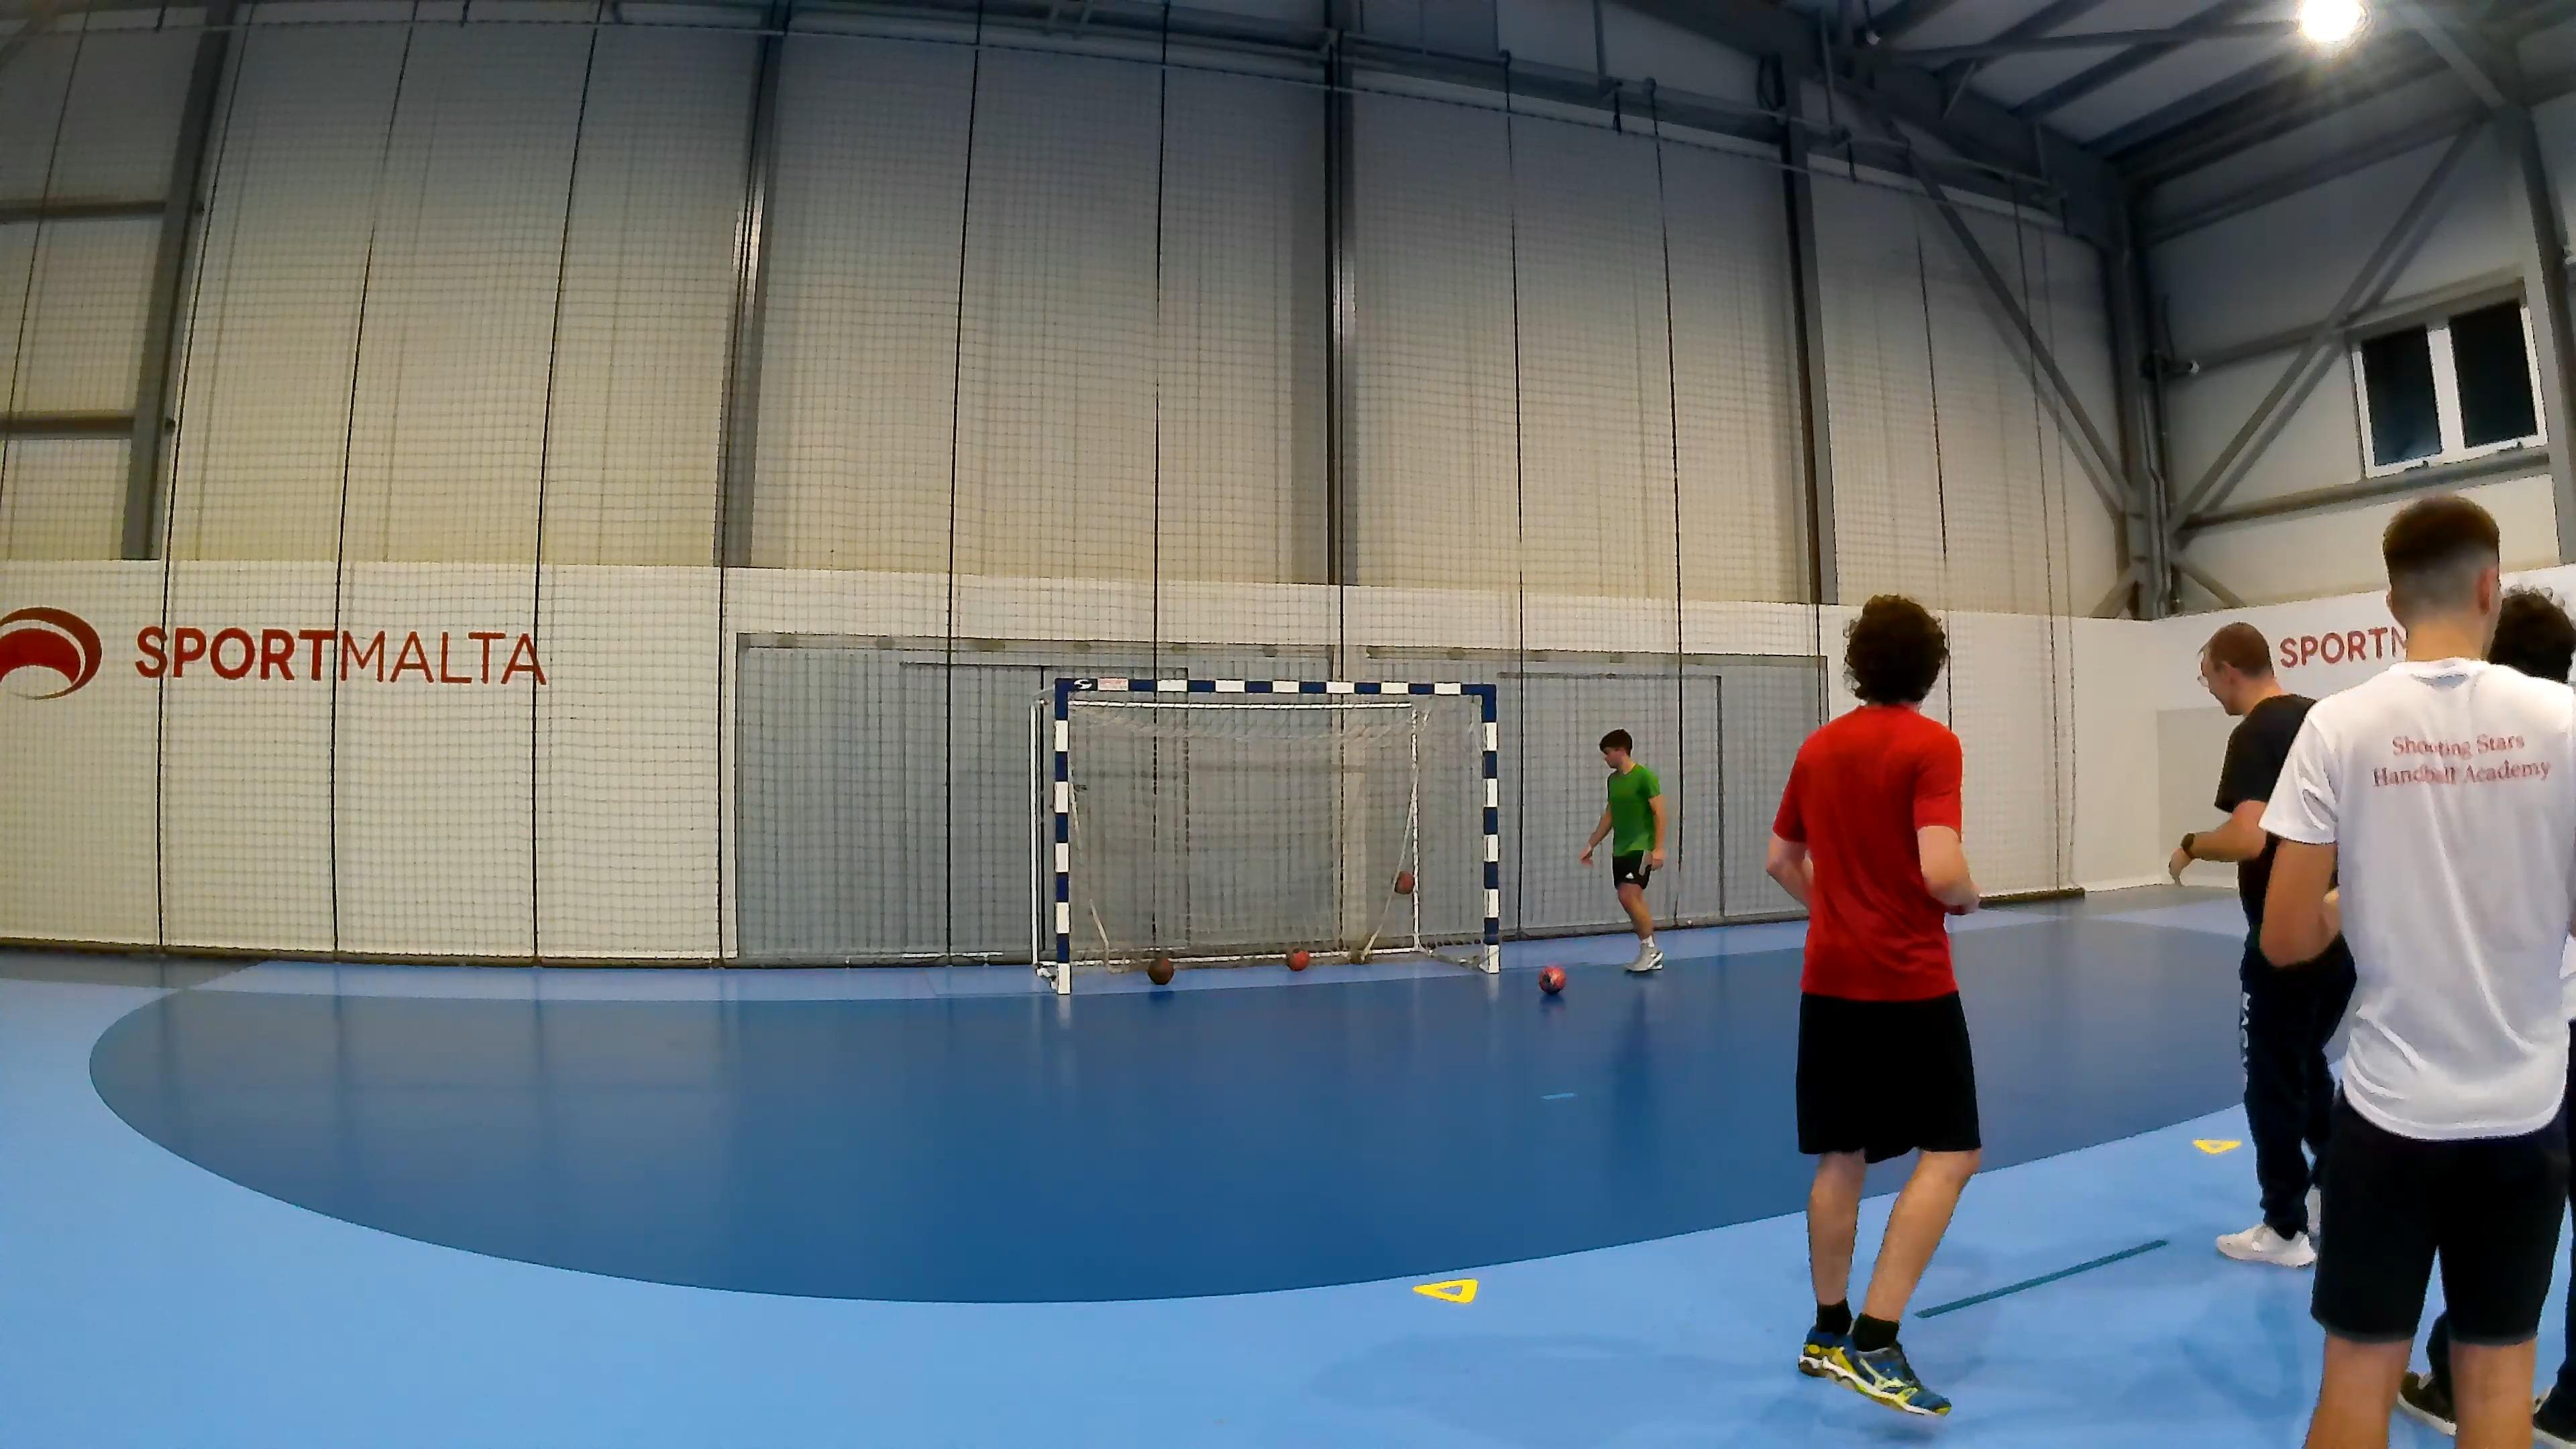handball: (1146, 952, 1175, 985), (1537, 964, 1566, 994), (1286, 948, 1309, 970)
